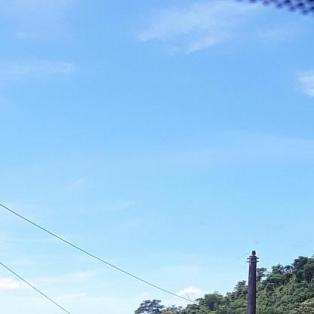Poste: (235, 250, 265, 314)
